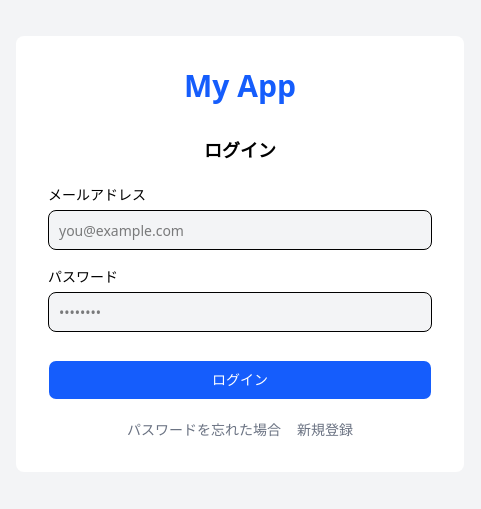
Test case: ログイン画面 › エラー表示
// 未入力状態でログインボタンをクリック
Click the button "ログイン" at point(240, 380), box [48,360,432,400]
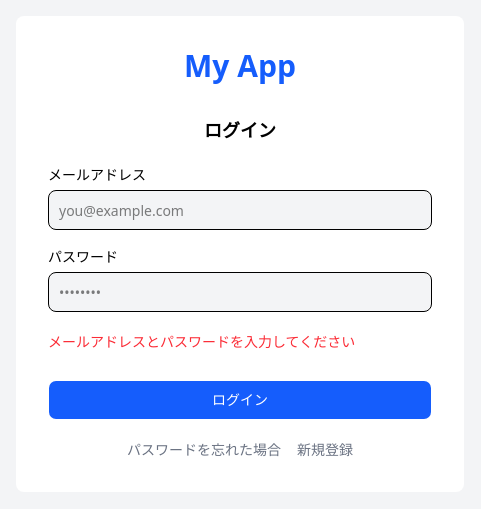
Expected: the text "メールアドレスとパスワードを入力してください" is shown, [48,332,355,351]
